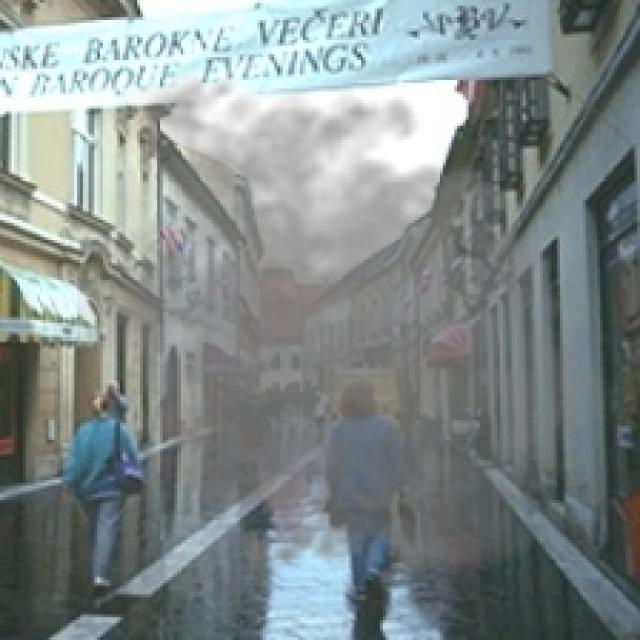smoke: (77, 63, 632, 594)
